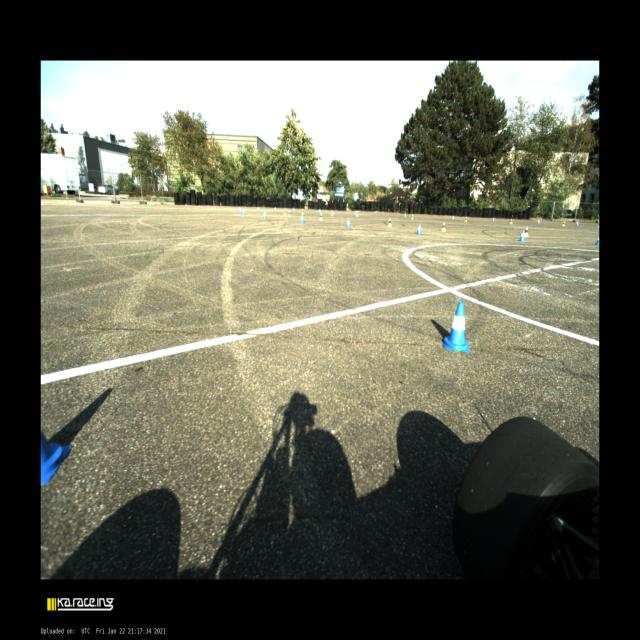blue_cone: (442, 301, 469, 352), (518, 230, 525, 240), (416, 223, 422, 234), (262, 210, 267, 218), (346, 218, 350, 228), (300, 214, 304, 223), (241, 208, 245, 216), (595, 237, 599, 244), (238, 207, 242, 213), (318, 208, 321, 214), (292, 207, 295, 212), (492, 217, 495, 222), (257, 206, 259, 212), (404, 212, 406, 218), (274, 207, 276, 212), (354, 210, 356, 215), (452, 215, 454, 220), (576, 221, 578, 226), (538, 220, 540, 224)
yellow_cone: (440, 222, 446, 232), (524, 227, 529, 237), (388, 218, 392, 227), (318, 213, 322, 221), (288, 210, 291, 218), (300, 208, 304, 214), (411, 213, 414, 220), (562, 221, 566, 226), (331, 210, 334, 216), (464, 216, 467, 222), (284, 209, 286, 215), (356, 211, 358, 217), (510, 218, 512, 224)
